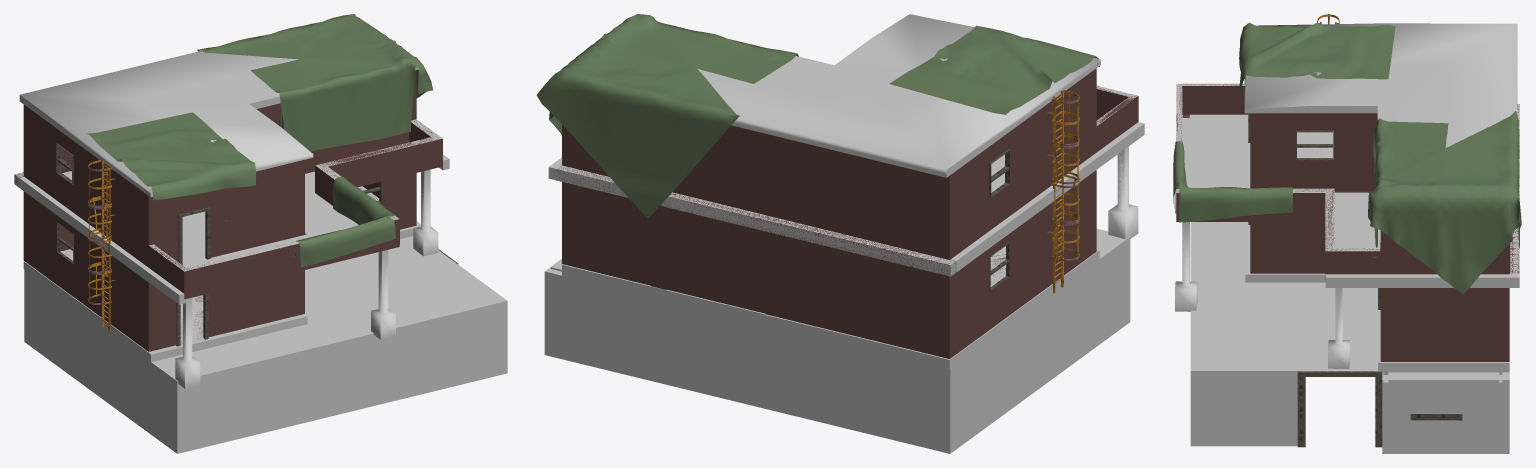
The model's file is Old Building.fbx.
The picture shows the model from 3 angles, left to right: view 1: azimuth 30°, elevation 25°; view 2: azimuth 150°, elevation 25°; view 3: azimuth 270°, elevation 25°; orthographic projection. The views are drawn at different scales.
Visible parts, largest first — view 1: Group1; view 2: Group1; view 3: Group1.
Part boxes in pixels (x1,y1,x2,y2): Group1: (14, 14, 507, 453); Group1: (536, 14, 1144, 453); Group1: (1173, 14, 1521, 453).
Size of the model in its own units: 221 by 145 by 174.
